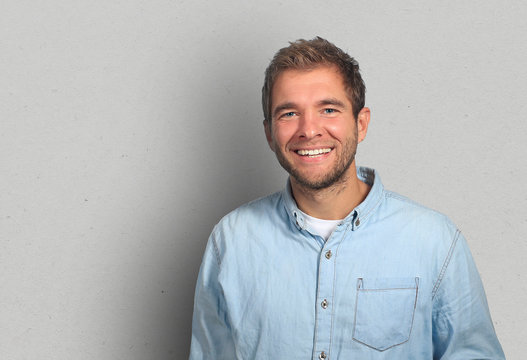NoMask: (275, 95, 352, 185)
